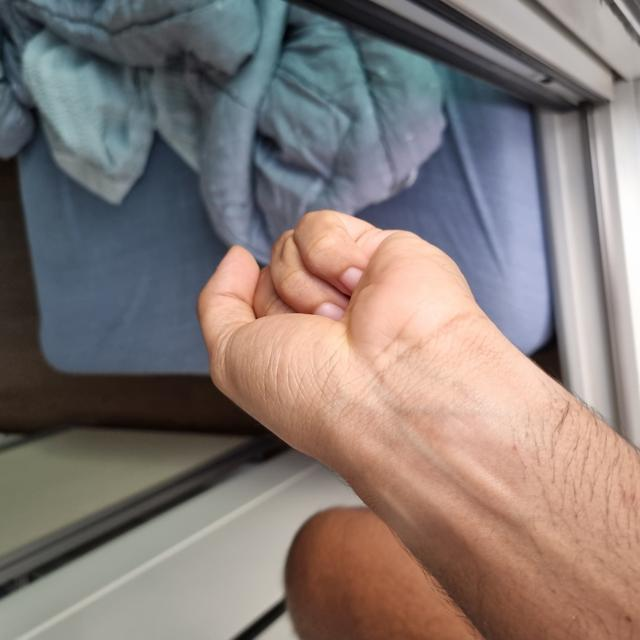Rock: (202, 201, 430, 483)
